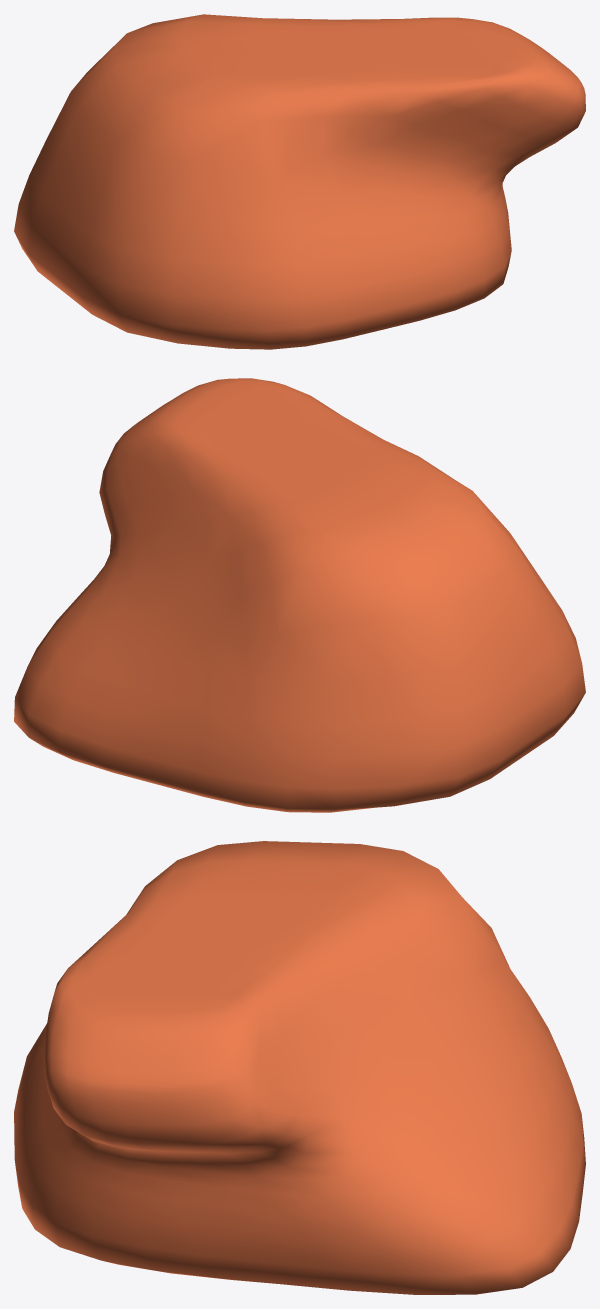
File: FroggoStone.fbx
3 renders of one model, top to bottom at view 1: azimuth 30°, elevation 25°; view 2: azimuth 150°, elevation 25°; view 3: azimuth 270°, elevation 25°, orthographic. The views are drawn at different scales.
Visible parts, largest first — view 1: FroggoStone.001; view 2: FroggoStone.001; view 3: FroggoStone.001.
Boxes of the visible parts, x1,y1,x2,y2 form: FroggoStone.001: (14,14,585,349); FroggoStone.001: (14,378,585,812); FroggoStone.001: (14,841,585,1294).
Bounding box in the file's own units: 4.12 × 2.11 × 4.66.
